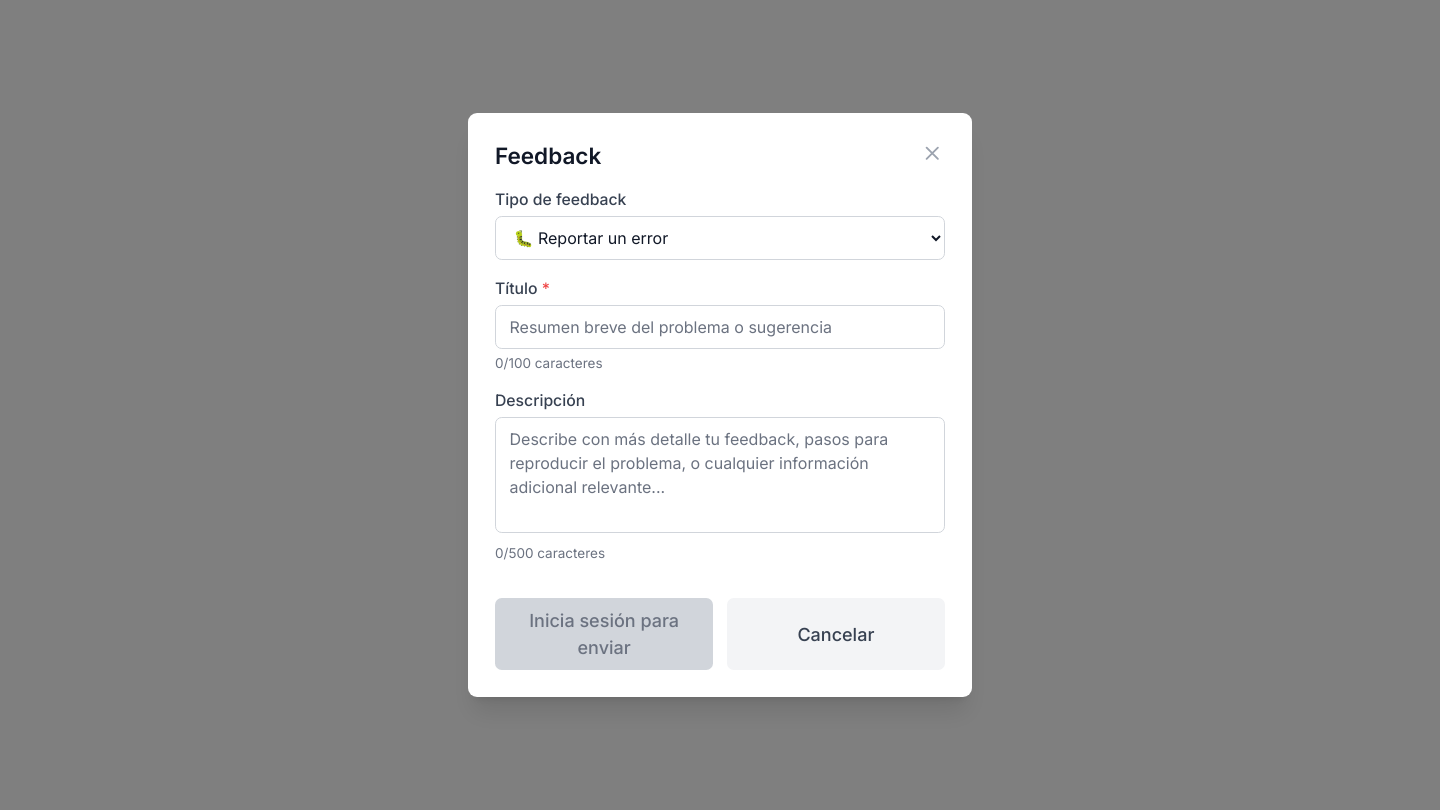
Test: FeedbackModal › Form validation › should clear error when user starts typing in title field
Trigger validation error
Submit the form, box [495,189,945,670]
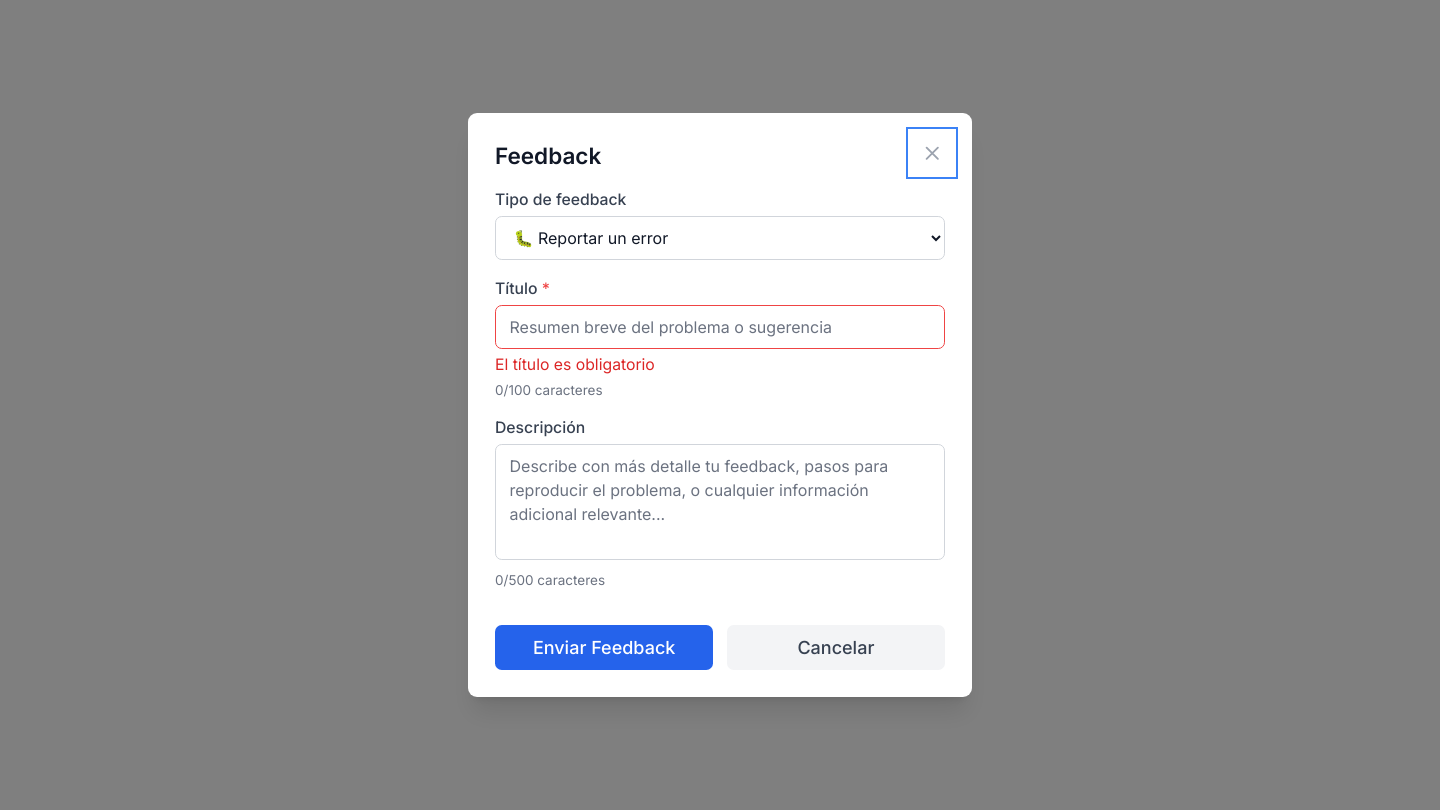
Expected: the text "El título es obligatorio" is shown, [495,355,655,374]
Start typing to clear error
Type "New title" into the field labelled "Título *" at (720, 327), box [495,305,945,349]
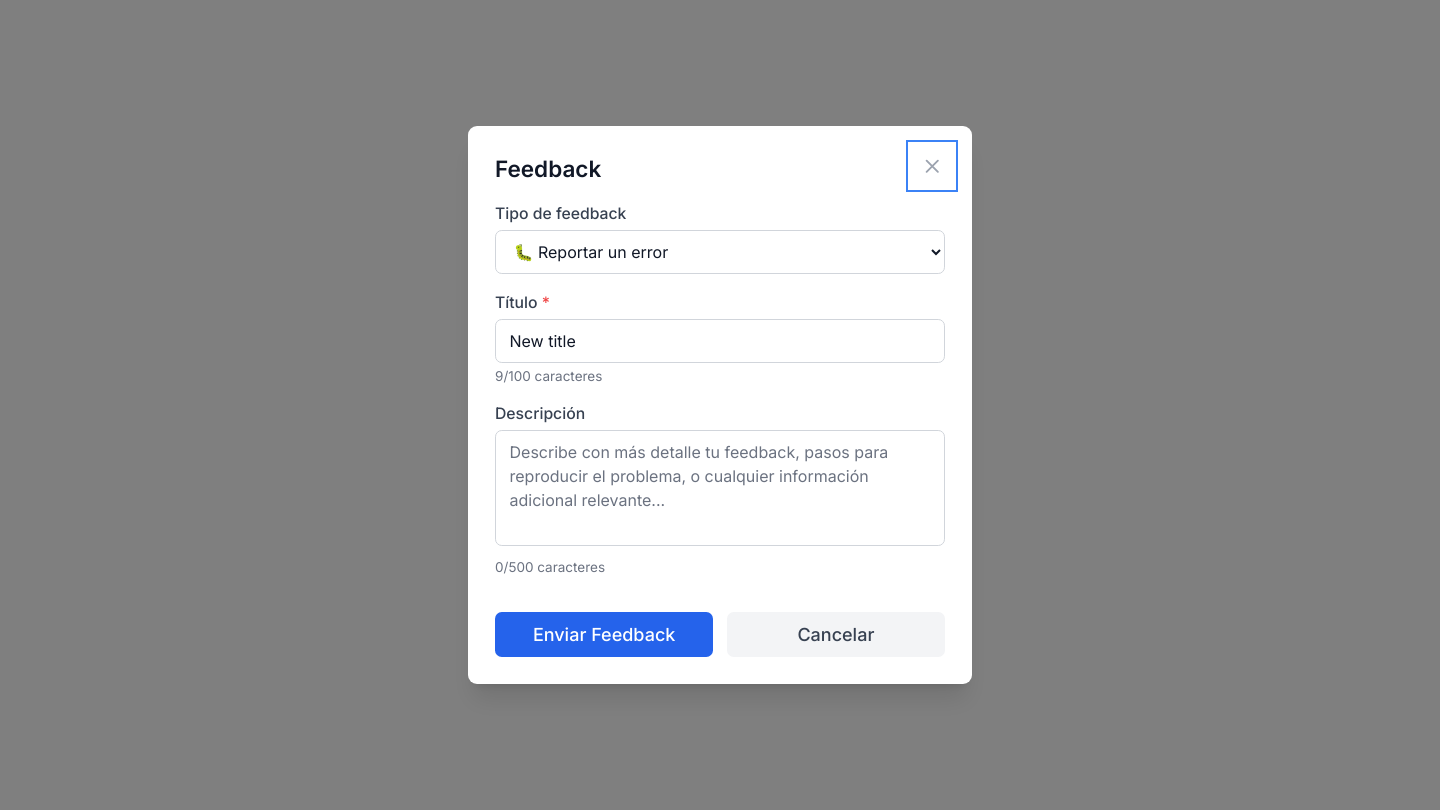
Expected: the text "El título es obligatorio" is gone
